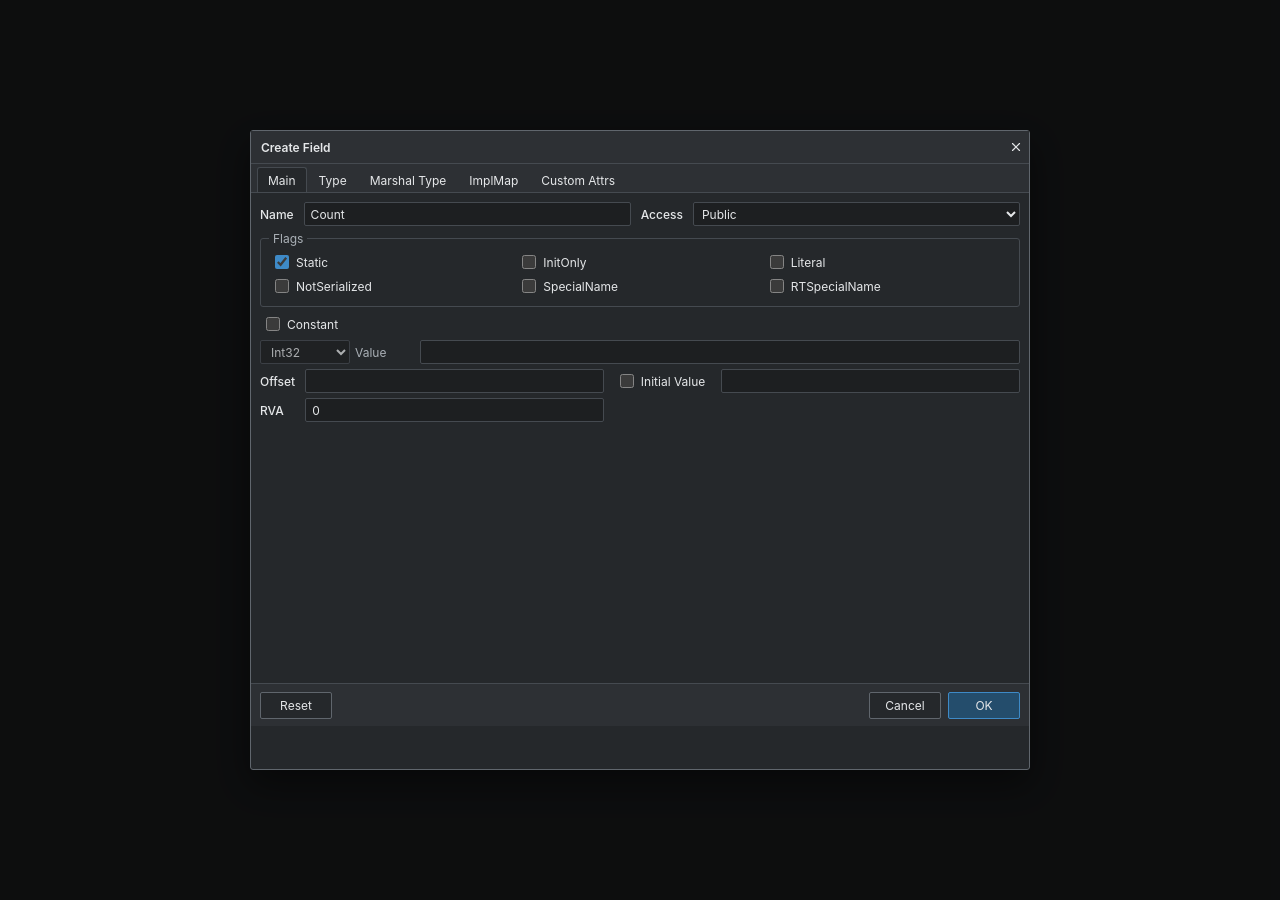
Test: FieldOptionsDialog › refuses a box that does not read, and says so until it does
Replace the text in the field named "RVA" with "not a number". click: (455, 410)
box: left=305, top=398, right=604, bottom=422
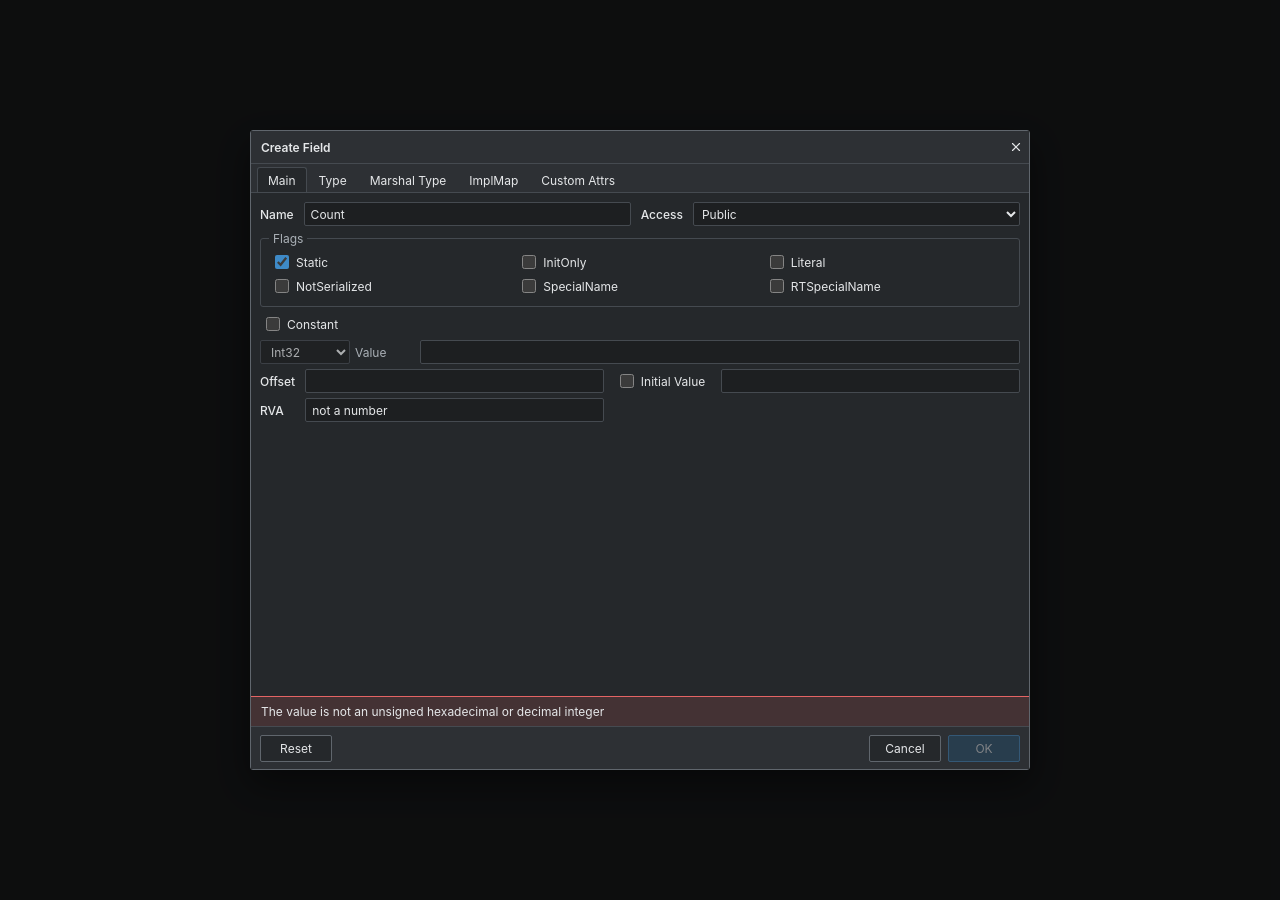
Check: the button "OK" is disabled, box left=948, top=734, right=1020, bottom=762
Check: the text "The value is not an unsigned hexadecimal or decimal integer" is shown, box left=251, top=696, right=1029, bottom=726
Replace the text in the field named "RVA" with "0x40". click: (455, 410)
box: left=305, top=398, right=604, bottom=422
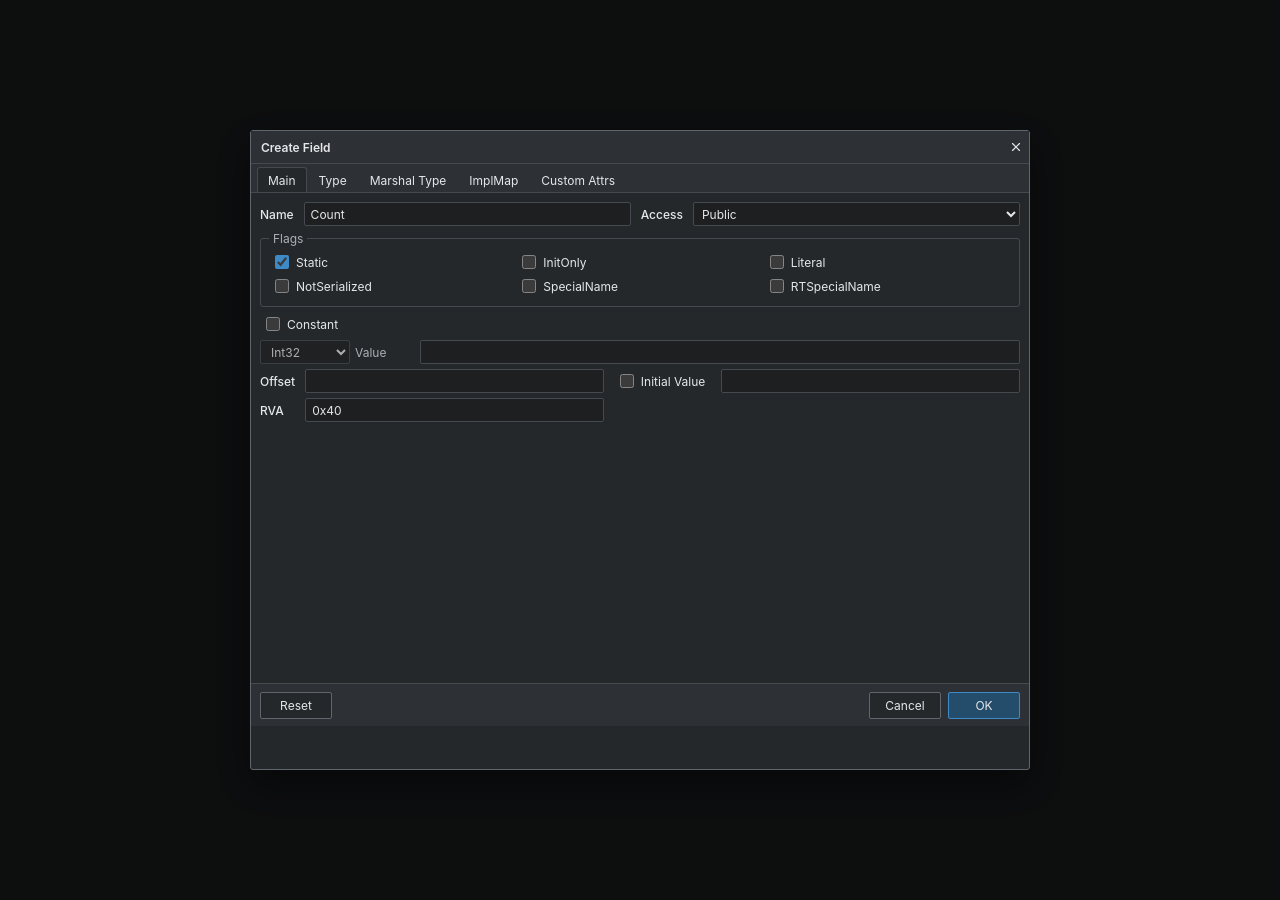
Check: the button "OK" is enabled, box left=948, top=692, right=1020, bottom=718
Check: the text "not an unsigned" is gone
